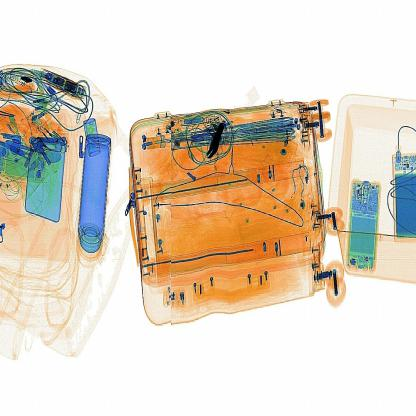knife: (200, 115, 239, 168)
